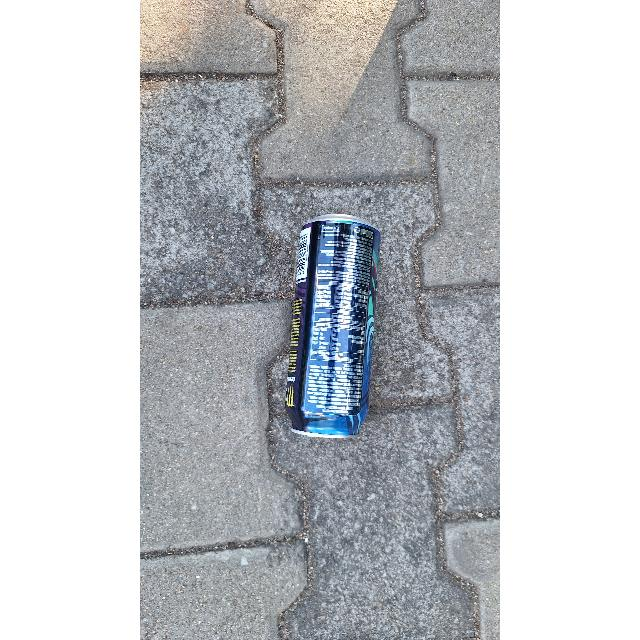Monster LH44: (286, 212, 374, 440)
